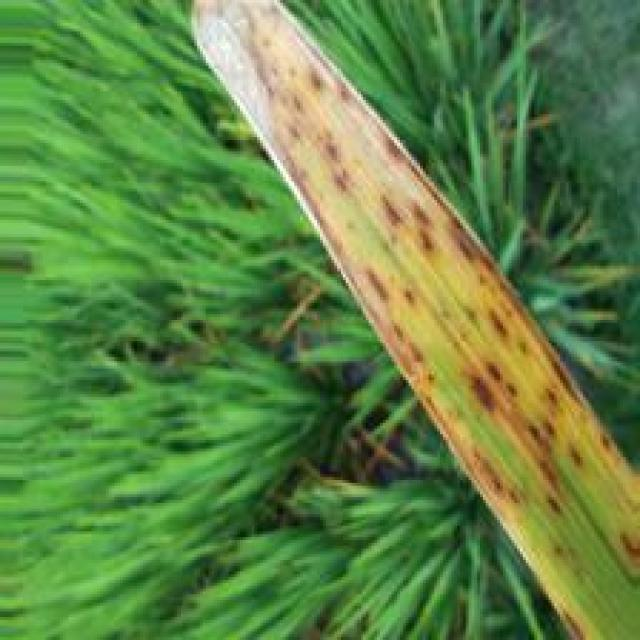Narrow_Brown_Leaf_Spot: (190, 3, 640, 639)
